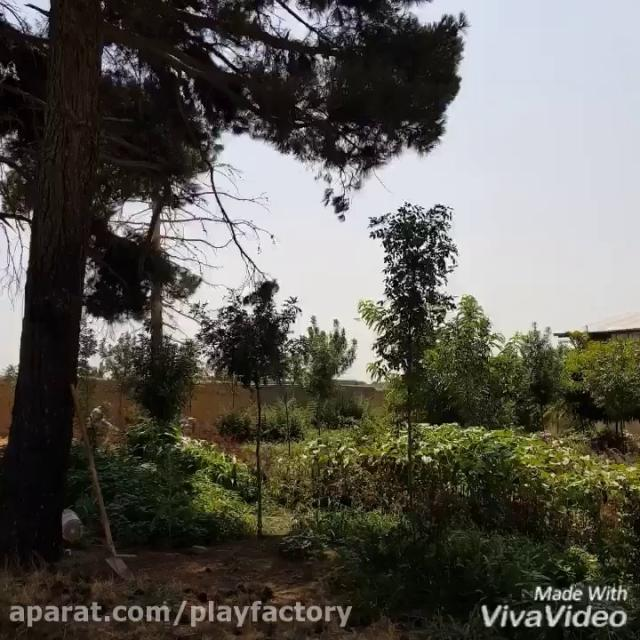drone: (349, 314, 362, 322)
